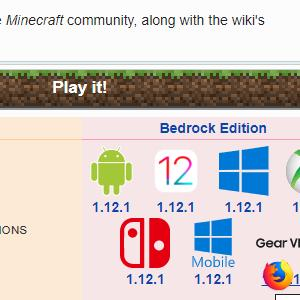firefox: (262, 260, 293, 290)
